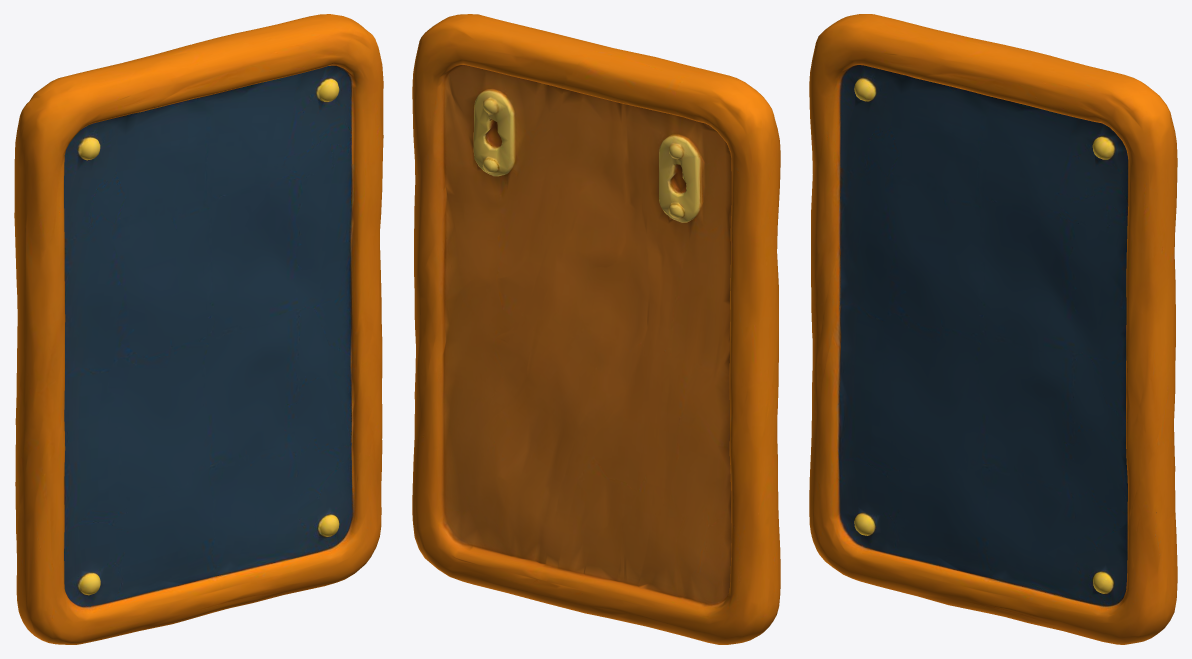
The model's file is panel.glb.
3 renders of one model, left to right at view 1: azimuth 30°, elevation 25°; view 2: azimuth 150°, elevation 25°; view 3: azimuth 330°, elevation 25°, orthographic.
Visible parts, largest first — view 1: tripo_node_4ed2531a-a34b-4cf1-8484-7cb9eae33647; view 2: tripo_node_4ed2531a-a34b-4cf1-8484-7cb9eae33647; view 3: tripo_node_4ed2531a-a34b-4cf1-8484-7cb9eae33647.
Part boxes in pixels (bbox=[...]): tripo_node_4ed2531a-a34b-4cf1-8484-7cb9eae33647: bbox=[14, 14, 383, 644]; tripo_node_4ed2531a-a34b-4cf1-8484-7cb9eae33647: bbox=[412, 14, 780, 644]; tripo_node_4ed2531a-a34b-4cf1-8484-7cb9eae33647: bbox=[809, 14, 1177, 644].
Bounding box in the file's own units: 0.649 × 0.9796 × 0.0962.
1 material, 1 textured.
